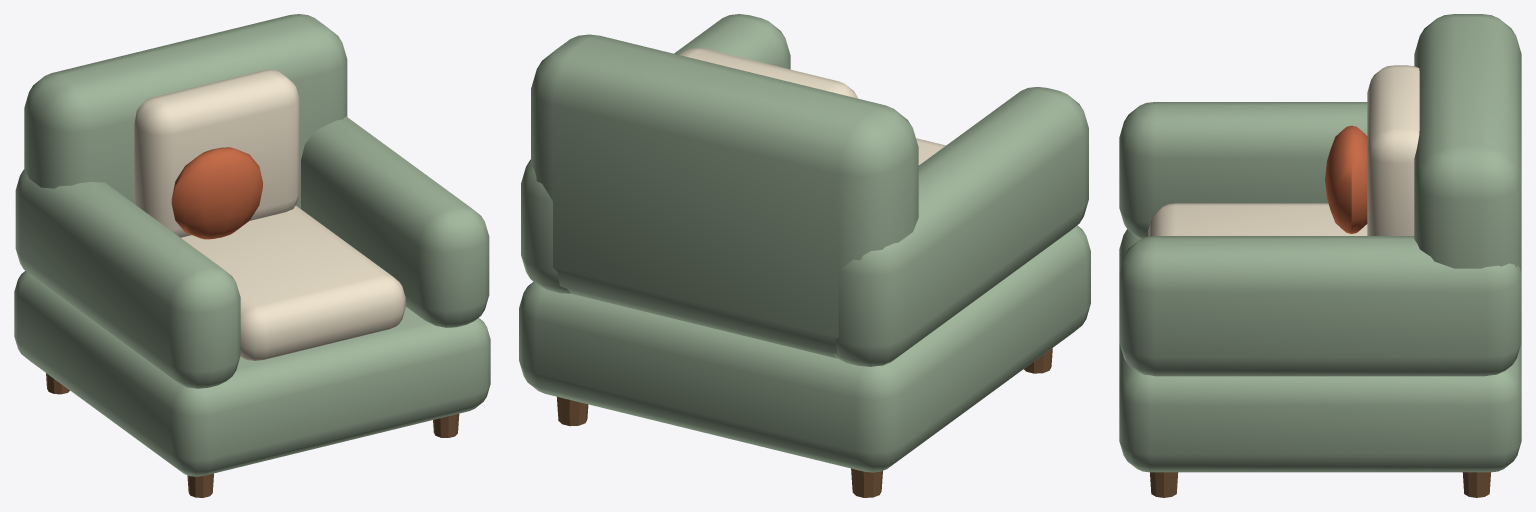
Rendered from armchair.glb.
3 views of the same model, side by side, from view 1: azimuth 30°, elevation 25°; view 2: azimuth 150°, elevation 25°; view 3: azimuth 270°, elevation 25° (orthographic). The views are drawn at different scales.
Parts seen in each view (by area): view 1: FURN-armchair; view 2: FURN-armchair; view 3: FURN-armchair.
Boxes of the visible parts, x1,y1,x2,y2 form: FURN-armchair: (14, 14, 490, 497); FURN-armchair: (519, 14, 1090, 497); FURN-armchair: (1119, 14, 1521, 497).
Bounding box in the file's own units: 0.9 × 0.85 × 0.9.
